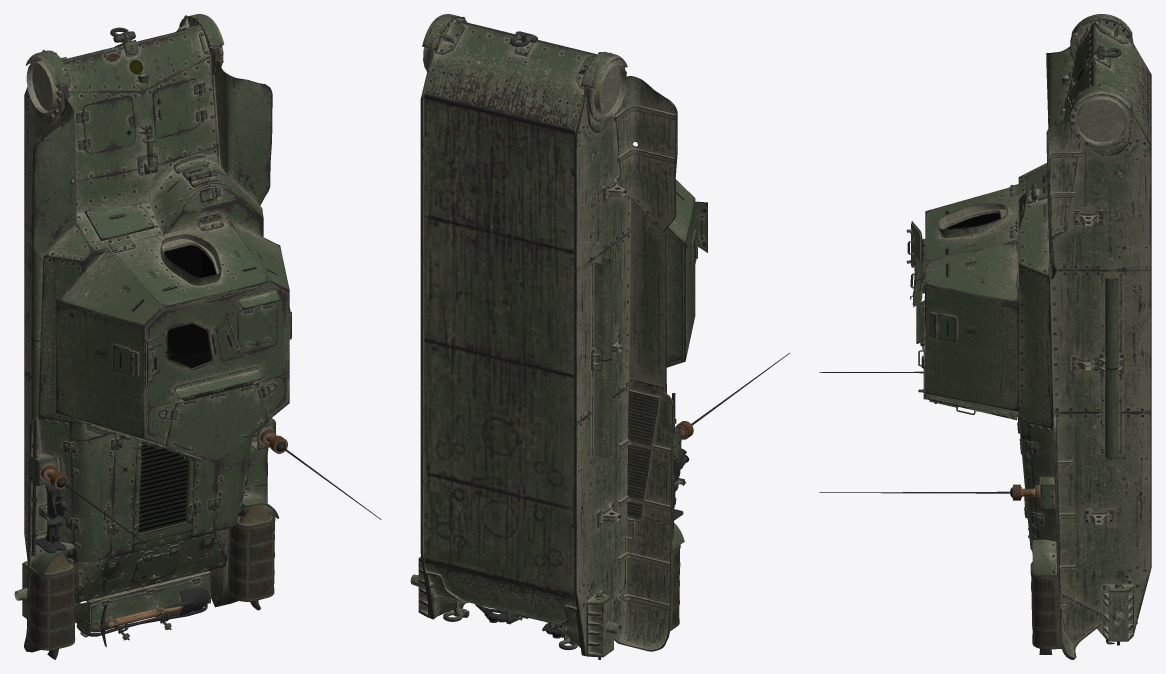
File: Hull.glb
The picture shows the model from 3 angles, left to right: view 1: azimuth 30°, elevation 25°; view 2: azimuth 150°, elevation 25°; view 3: azimuth 270°, elevation 25°; orthographic projection. The views are drawn at different scales.
Parts seen in each view (by area): view 1: set_0_group_0; view 2: set_0_group_0; view 3: set_0_group_0.
Part boxes in pixels (<box>): set_0_group_0: <box>14,14,381,659</box>; set_0_group_0: <box>410,14,789,659</box>; set_0_group_0: <box>819,14,1151,659</box>.
Bounding box in the file's own units: 2.34 × 5.48 × 2.92.
1 material, 1 textured.
